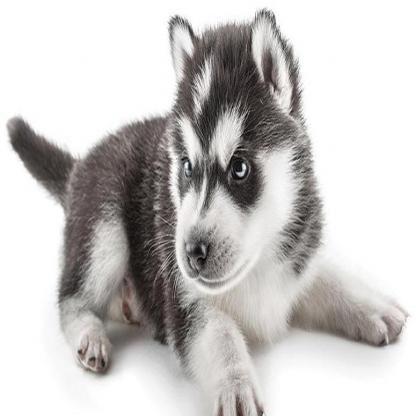dog: (7, 10, 407, 416)
